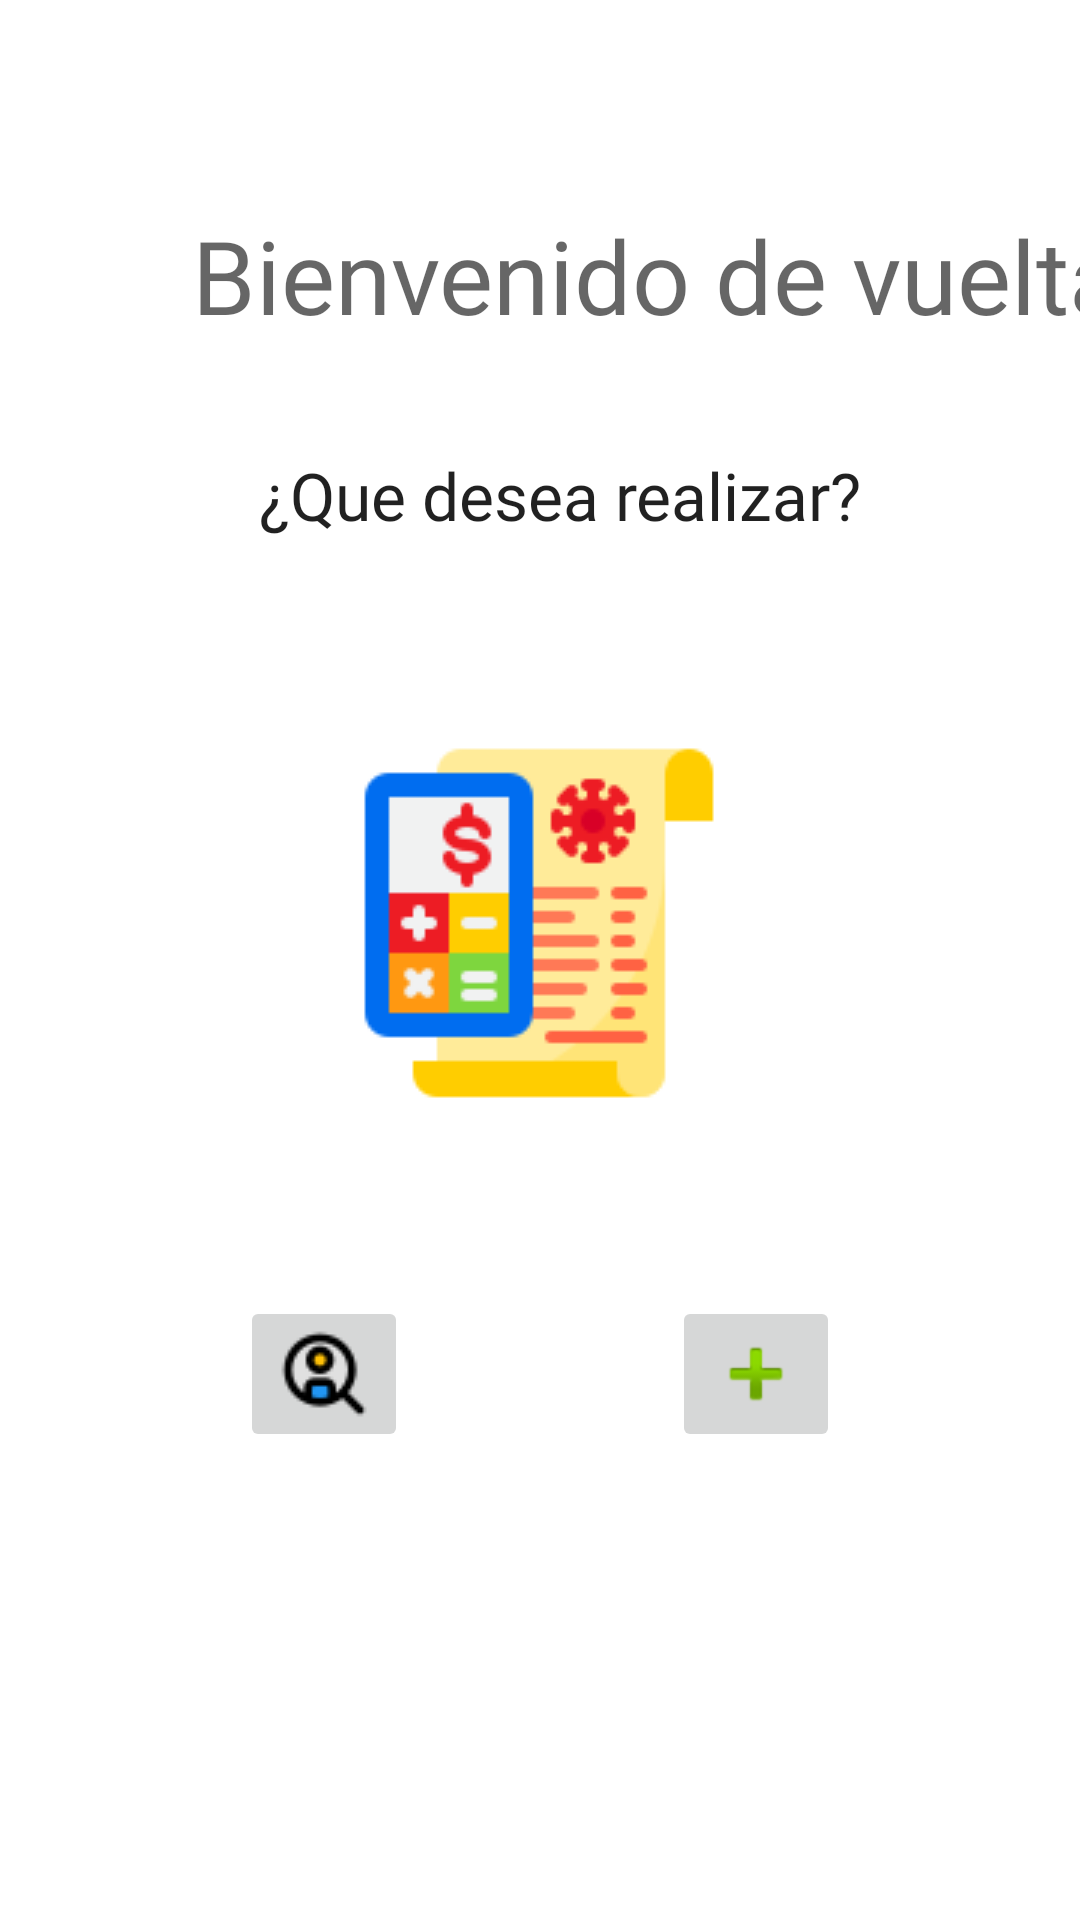

Where icons sit on this 1080×1920 app screen, as (x1, y1, x2, y2):
add: (684, 1314, 828, 1434)
report: (364, 748, 714, 1098)
searchuser: (252, 1314, 396, 1434)
